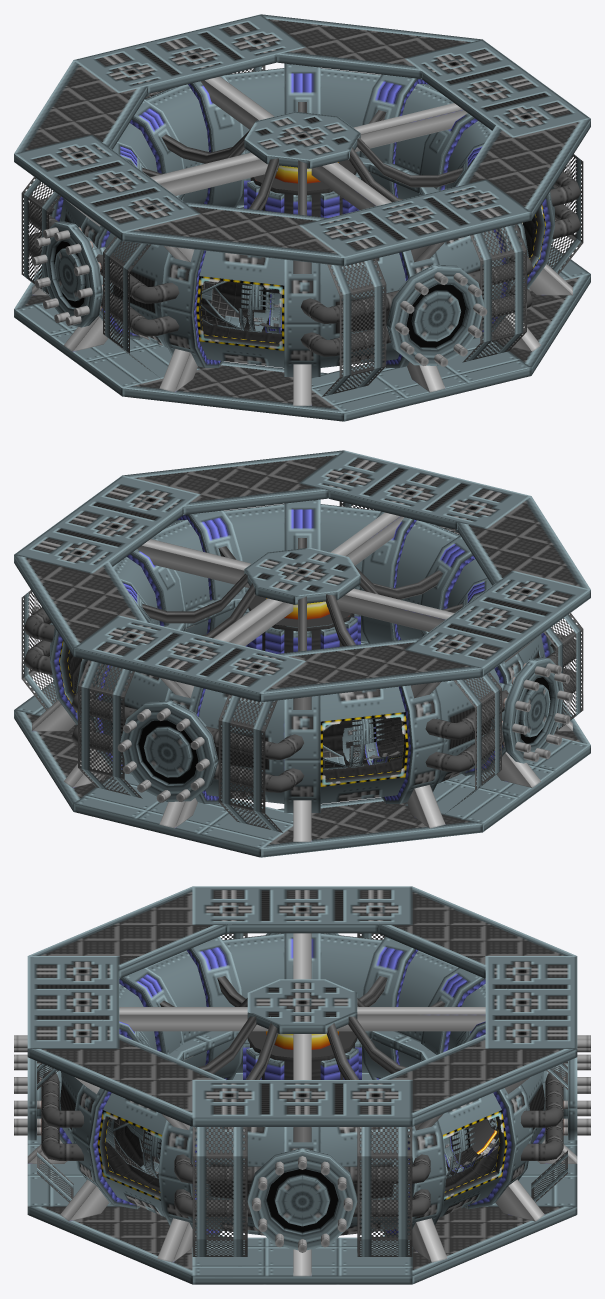
The picture shows the model from 3 angles, top to bottom: view 1: azimuth 30°, elevation 25°; view 2: azimuth 150°, elevation 25°; view 3: azimuth 270°, elevation 25°; orthographic projection.
Parts seen in each view (by area): view 1: Torus, Plasma, Magnet, Bolts3, Bolts4; view 2: Torus, Plasma, Magnet, Bolts3, Bolts2; view 3: Torus, Plasma, Magnet, Bolts1, Bolts4, Bolts2.
Boxes of the visible parts, box(x1,y1,x2,y2) form: Torus: box(14, 14, 590, 421); Plasma: box(201, 280, 281, 333); Magnet: box(244, 159, 360, 217); Bolts3: box(31, 227, 104, 325); Bolts4: box(395, 272, 487, 366); Torus: box(14, 450, 590, 857); Plasma: box(323, 717, 403, 769); Magnet: box(244, 595, 360, 653); Bolts3: box(502, 663, 573, 761); Bolts2: box(117, 708, 209, 802); Torus: box(27, 886, 577, 1284); Plasma: box(105, 1117, 499, 1178); Magnet: box(243, 1031, 361, 1079); Bolts1: box(252, 1156, 352, 1252); Bolts4: box(14, 1035, 41, 1135); Bolts2: box(563, 1035, 590, 1135).
Bounding box in the file's own units: 15.75 × 5 × 15.75.
